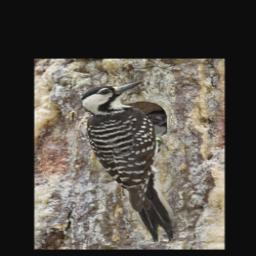Woodpecker: (80, 81, 178, 243)
